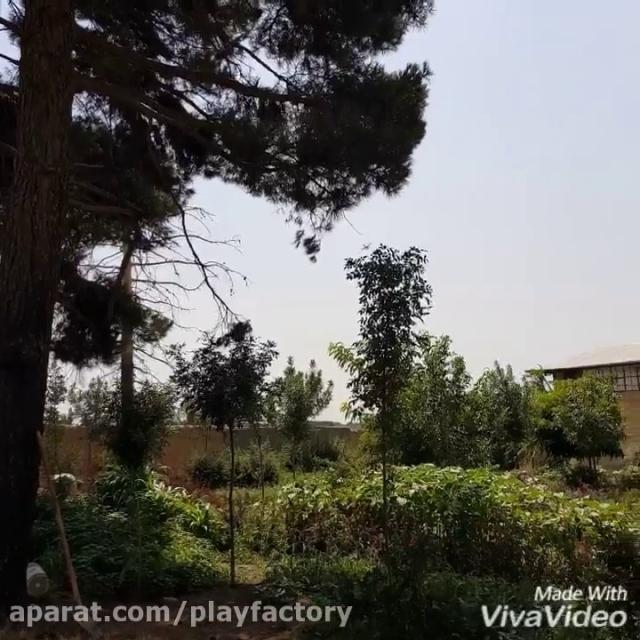drone: (354, 231, 378, 256)
